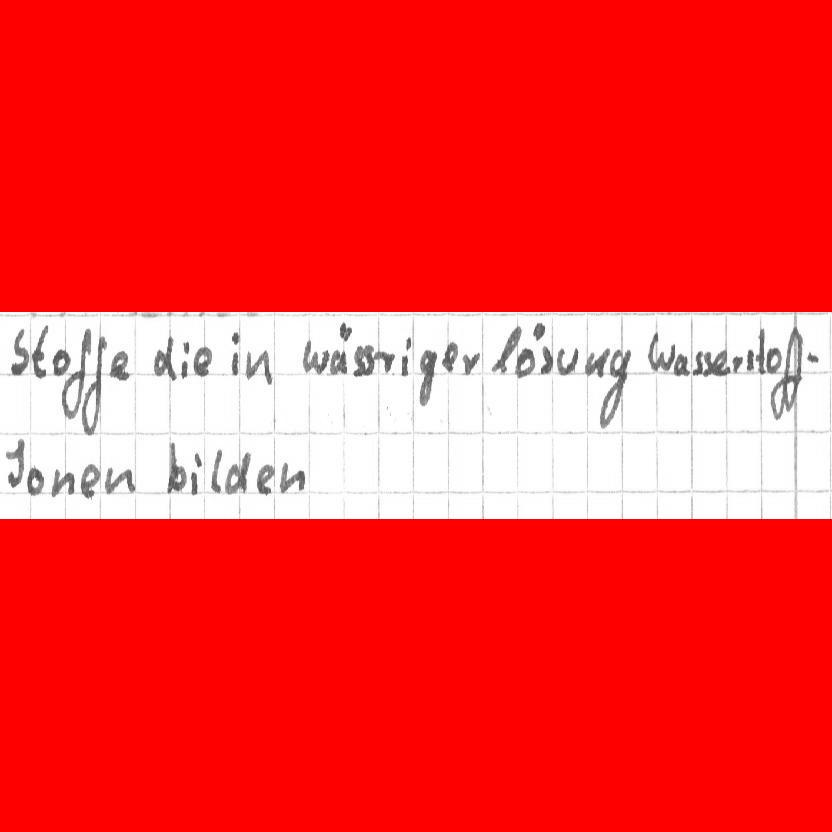Char: (598, 346, 632, 430), (770, 331, 801, 422), (80, 334, 106, 437), (70, 330, 94, 429), (514, 325, 543, 378), (490, 324, 518, 375), (164, 437, 188, 496), (327, 321, 351, 375), (416, 346, 437, 406), (223, 448, 248, 496), (244, 344, 272, 385), (103, 464, 135, 498), (4, 436, 23, 493), (152, 336, 176, 380), (31, 324, 50, 378), (301, 338, 326, 377), (647, 328, 669, 372), (9, 327, 29, 375), (277, 461, 304, 495), (583, 346, 611, 378), (50, 465, 74, 498), (208, 446, 223, 496), (109, 348, 131, 382), (555, 344, 579, 375), (254, 462, 275, 496), (79, 462, 98, 499), (354, 343, 374, 376), (194, 344, 214, 377), (25, 465, 45, 497), (227, 330, 240, 378), (754, 327, 767, 375), (669, 346, 688, 376), (711, 349, 732, 375), (461, 350, 481, 377), (52, 347, 70, 377), (190, 451, 202, 496), (178, 338, 191, 379), (441, 342, 458, 373), (692, 349, 711, 376), (375, 350, 395, 375), (400, 336, 412, 377), (538, 344, 553, 376), (766, 346, 783, 374), (803, 348, 820, 368), (729, 354, 743, 373), (744, 348, 755, 372), (825, 347, 832, 371)
